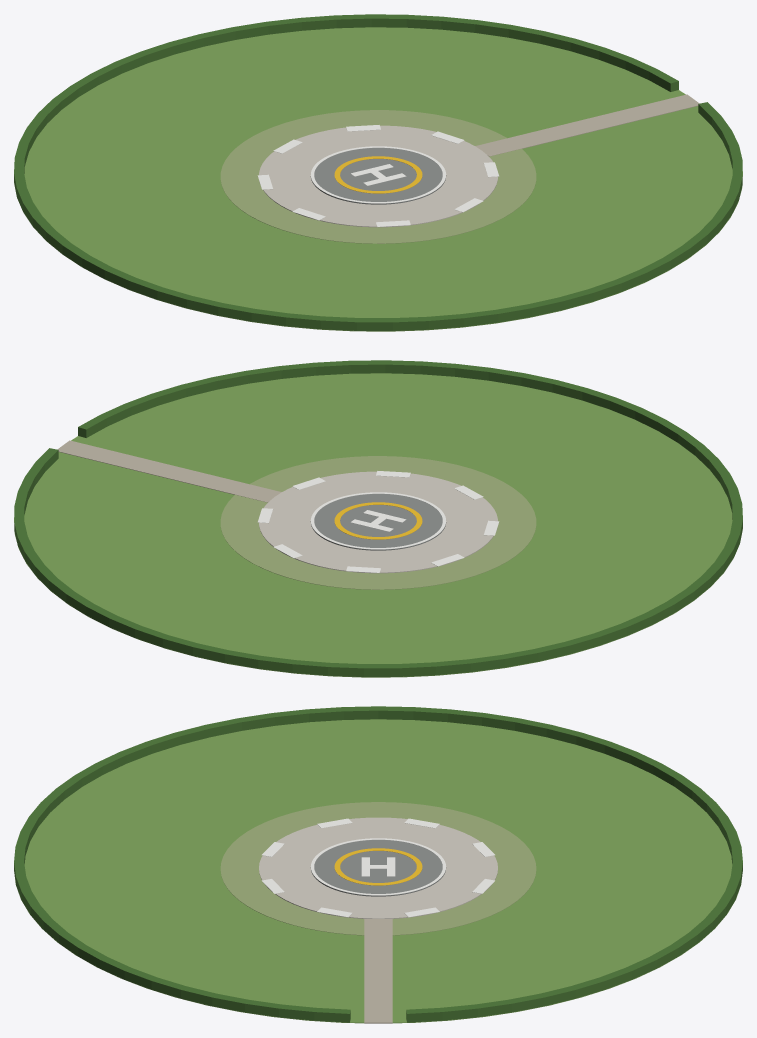
Rendered from helipad.glb.
The picture shows the model from 3 angles, top to bottom: view 1: azimuth 30°, elevation 25°; view 2: azimuth 150°, elevation 25°; view 3: azimuth 270°, elevation 25°; orthographic projection.
Visible parts, largest first — view 1: Helipad | Clear zone lawn, Helipad | Boundary hedge, Helipad | Safety area, Helipad | FATO, Helipad | TLOF, Helipad | Access walk, Helipad | FATO perimeter markers, Helipad | TLOF perimeter line, Helipad | Touchdown circle; view 2: Helipad | Clear zone lawn, Helipad | Boundary hedge, Helipad | Safety area, Helipad | FATO, Helipad | TLOF, Helipad | Access walk, Helipad | FATO perimeter markers, Helipad | TLOF perimeter line, Helipad | Touchdown circle; view 3: Helipad | Clear zone lawn, Helipad | Boundary hedge, Helipad | Safety area, Helipad | FATO, Helipad | TLOF, Helipad | Access walk, Helipad | FATO perimeter markers, Helipad | TLOF perimeter line, Helipad | Touchdown circle.
Part boxes in pixels (left/top/right/bottom): Helipad | Clear zone lawn: left=14, top=27, right=742, bottom=331; Helipad | Boundary hedge: left=14, top=14, right=742, bottom=330; Helipad | Safety area: left=220, top=110, right=536, bottom=243; Helipad | FATO: left=259, top=125, right=497, bottom=227; Helipad | TLOF: left=310, top=148, right=446, bottom=204; Helipad | Access walk: left=475, top=94, right=699, bottom=156; Helipad | FATO perimeter markers: left=257, top=125, right=499, bottom=226; Helipad | TLOF perimeter line: left=310, top=146, right=446, bottom=203; Helipad | Touchdown circle: left=334, top=156, right=422, bottom=193; Helipad | Clear zone lawn: left=14, top=373, right=742, bottom=677; Helipad | Boundary hedge: left=14, top=360, right=742, bottom=676; Helipad | Safety area: left=220, top=456, right=536, bottom=589; Helipad | FATO: left=259, top=471, right=497, bottom=573; Helipad | TLOF: left=310, top=494, right=446, bottom=550; Helipad | Access walk: left=57, top=440, right=281, bottom=502; Helipad | FATO perimeter markers: left=257, top=471, right=499, bottom=572; Helipad | TLOF perimeter line: left=310, top=492, right=446, bottom=549; Helipad | Touchdown circle: left=334, top=502, right=422, bottom=539; Helipad | Clear zone lawn: left=14, top=719, right=742, bottom=1023; Helipad | Boundary hedge: left=14, top=706, right=742, bottom=1022; Helipad | Safety area: left=220, top=802, right=536, bottom=935; Helipad | FATO: left=259, top=817, right=497, bottom=918; Helipad | TLOF: left=310, top=840, right=446, bottom=896; Helipad | Access walk: left=364, top=919, right=392, bottom=1023; Helipad | FATO perimeter markers: left=262, top=818, right=494, bottom=917; Helipad | TLOF perimeter line: left=310, top=838, right=446, bottom=895; Helipad | Touchdown circle: left=334, top=848, right=422, bottom=885.
Size of the model in its own units: 64.6 by 0.9017 by 64.6.
